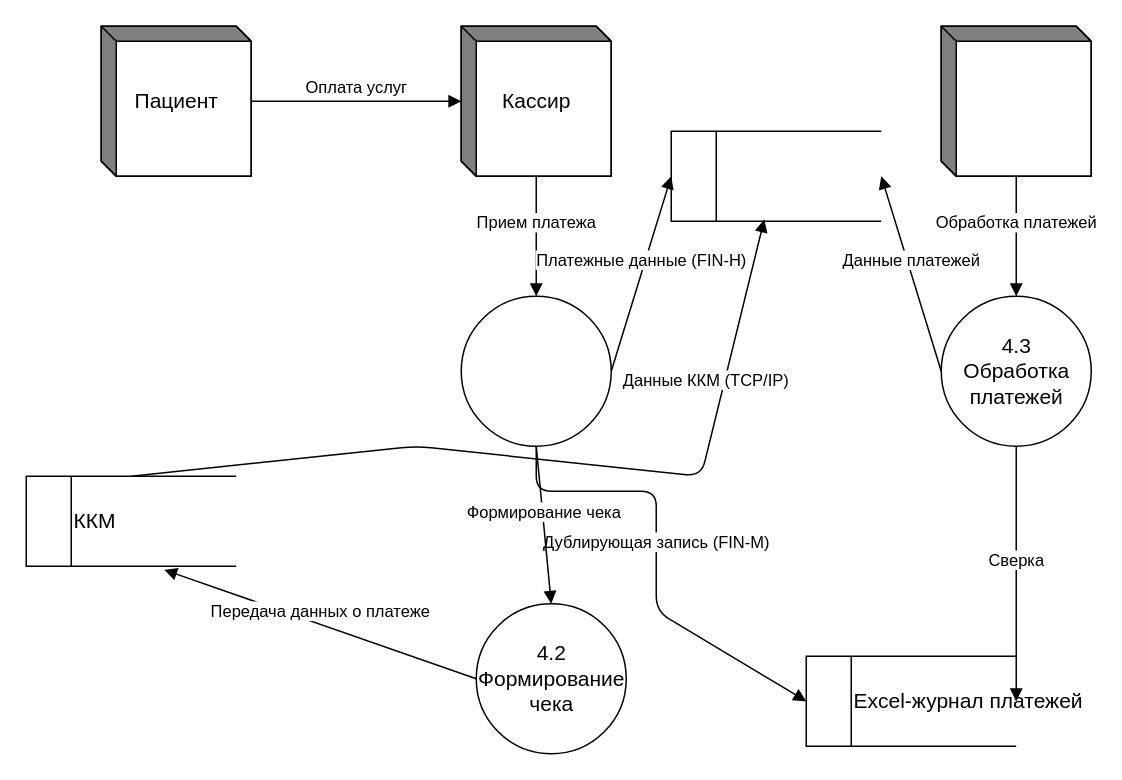
The diagram is 1122 pixels wide and 780 high, and some of its shapes have lost their labels. The shapes that lost their labels are listed below. From the top down, each one's box as (x1, y1, x2, y2) in pixels, then its label:
(940, 25, 1091, 176): Бухгалтер
(670, 130, 881, 221): 1С Бухгалтерия
(460, 295, 611, 446): 4.1 Прием оплаты
